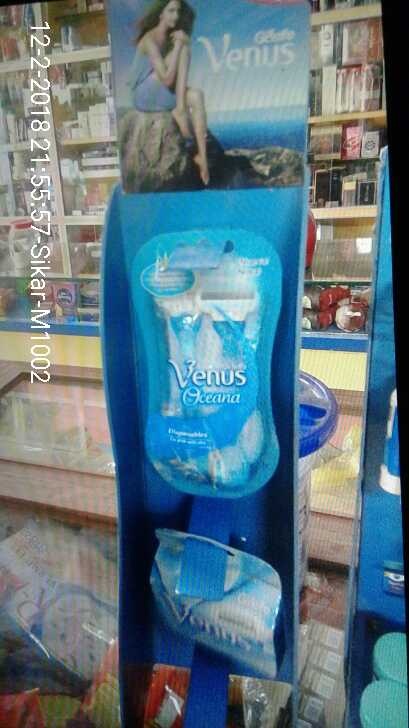venus: (147, 229, 275, 500), (141, 535, 291, 674)
